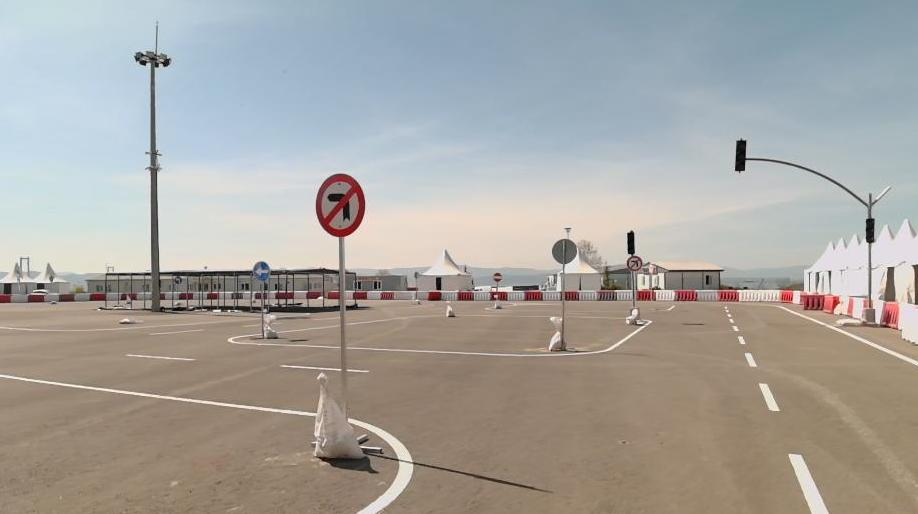nesne: (0, 302, 829, 512), (4, 348, 485, 493), (2, 372, 414, 512), (721, 305, 917, 512), (0, 329, 493, 383), (784, 306, 917, 364), (316, 172, 365, 239), (788, 453, 829, 513), (899, 301, 918, 344), (283, 364, 369, 373), (127, 352, 196, 361), (759, 382, 780, 411), (148, 327, 205, 336), (879, 301, 898, 327), (738, 289, 779, 301), (251, 260, 270, 281), (735, 140, 747, 169), (803, 294, 823, 311), (674, 288, 696, 302), (625, 255, 643, 272), (717, 288, 738, 302), (695, 289, 717, 302), (834, 295, 848, 314), (638, 288, 657, 302), (852, 297, 864, 319), (597, 289, 616, 302), (872, 298, 882, 322), (823, 295, 837, 312), (654, 289, 675, 300), (578, 289, 597, 301), (523, 289, 543, 300), (865, 217, 874, 241), (615, 290, 633, 302), (560, 289, 578, 301), (626, 231, 635, 254), (489, 291, 509, 301), (394, 290, 416, 299), (543, 290, 561, 300), (473, 290, 489, 301), (746, 352, 757, 367), (457, 290, 473, 300), (779, 290, 792, 302), (507, 291, 524, 300), (276, 290, 293, 299), (11, 294, 28, 303), (441, 290, 456, 300), (43, 293, 58, 303), (89, 293, 105, 302), (307, 290, 321, 300), (28, 294, 42, 304), (75, 292, 89, 302), (179, 291, 193, 301), (193, 291, 207, 301), (122, 292, 137, 301), (138, 292, 153, 301), (328, 290, 341, 300), (427, 291, 441, 300), (59, 293, 73, 302), (380, 290, 392, 300), (368, 290, 380, 300), (341, 290, 353, 300), (106, 293, 121, 301), (792, 290, 801, 303), (353, 291, 366, 300), (416, 290, 427, 300), (294, 290, 306, 299), (208, 291, 220, 300), (164, 293, 179, 300), (220, 292, 233, 300), (268, 290, 278, 300), (257, 291, 268, 300), (846, 297, 851, 315), (1, 294, 11, 303), (737, 334, 745, 345), (245, 292, 255, 300), (235, 292, 244, 300), (732, 325, 739, 332)
